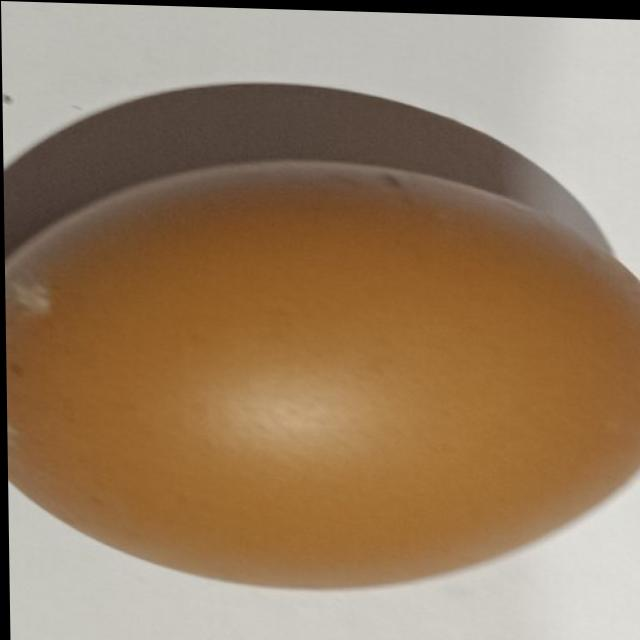fresh: (2, 150, 640, 599)
